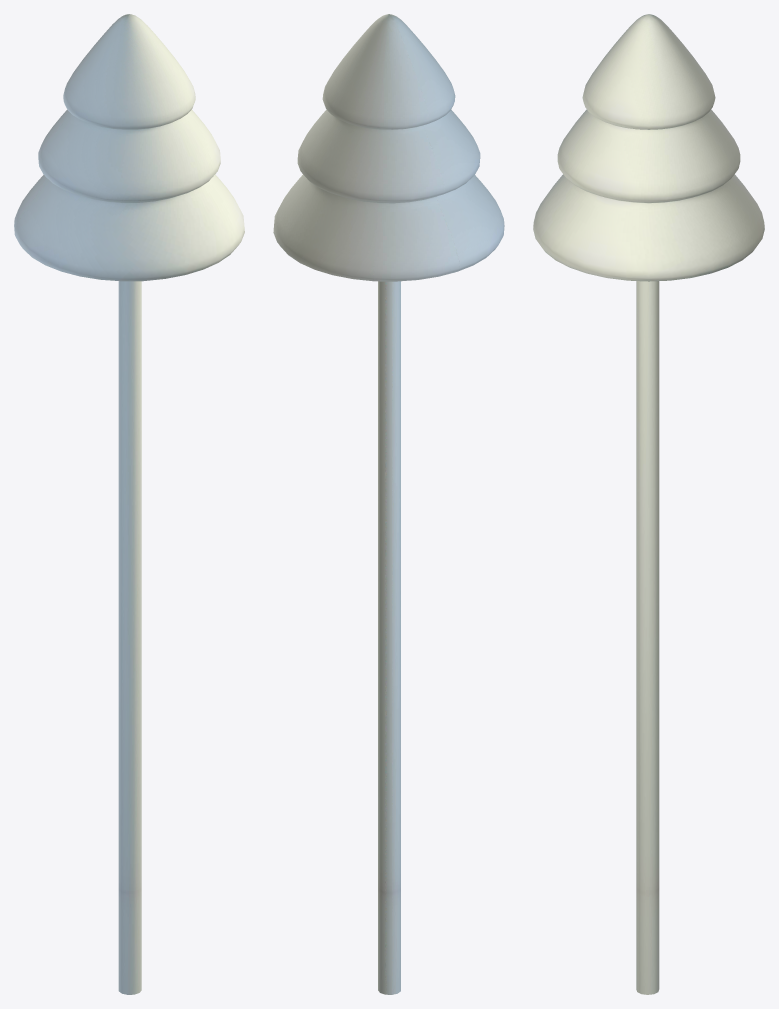
Rendered from tree.glb.
3 views of the same model, side by side, from view 1: azimuth 30°, elevation 25°; view 2: azimuth 150°, elevation 25°; view 3: azimuth 270°, elevation 25° (orthographic).
Parts seen in each view (by area): view 1: tree_top_MM, tree_stem_MM; view 2: tree_top_MM, tree_stem_MM; view 3: tree_top_MM, tree_stem_MM.
Boxes of the visible parts, box(x1,y1,x2,y2) form: tree_top_MM: box(14, 14, 244, 281); tree_stem_MM: box(118, 281, 141, 994); tree_top_MM: box(273, 14, 504, 281); tree_stem_MM: box(378, 281, 400, 994); tree_top_MM: box(533, 14, 764, 281); tree_stem_MM: box(636, 281, 659, 994).
Size of what is drawn, in the model's own units: 2.99 by 13.89 by 2.99.
Materials: 2 (2 with a texture image).
